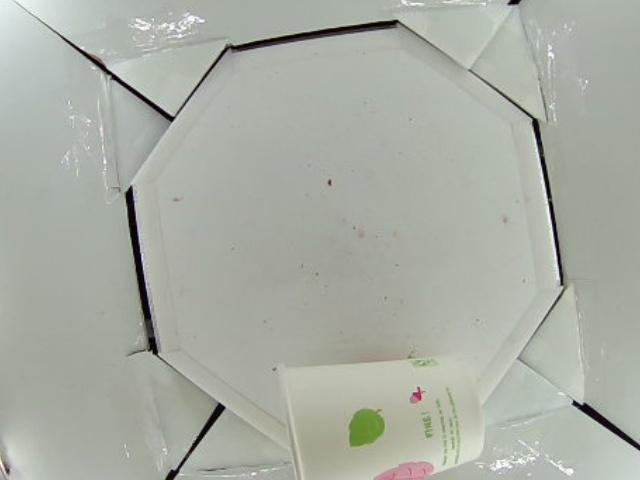Cup: (273, 356, 483, 480)
